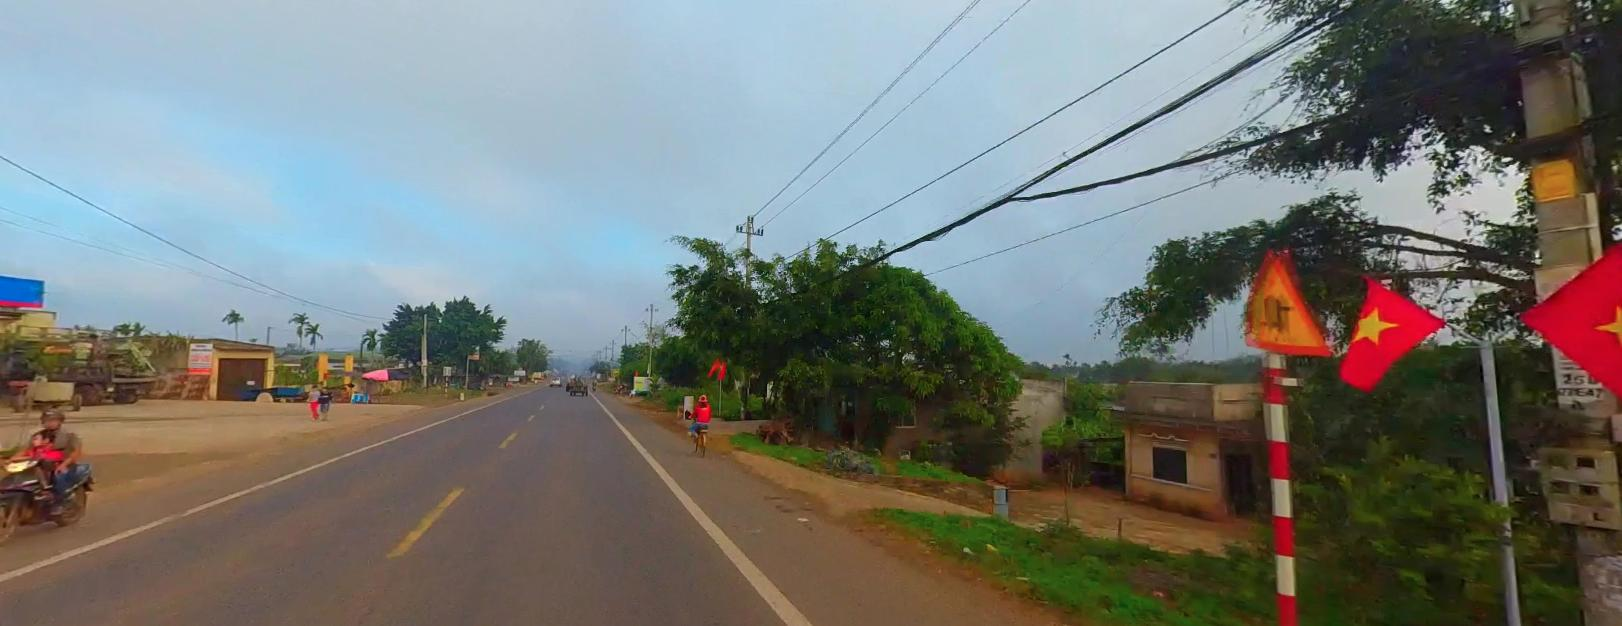Nguy hiem: (1241, 252, 1333, 355)
